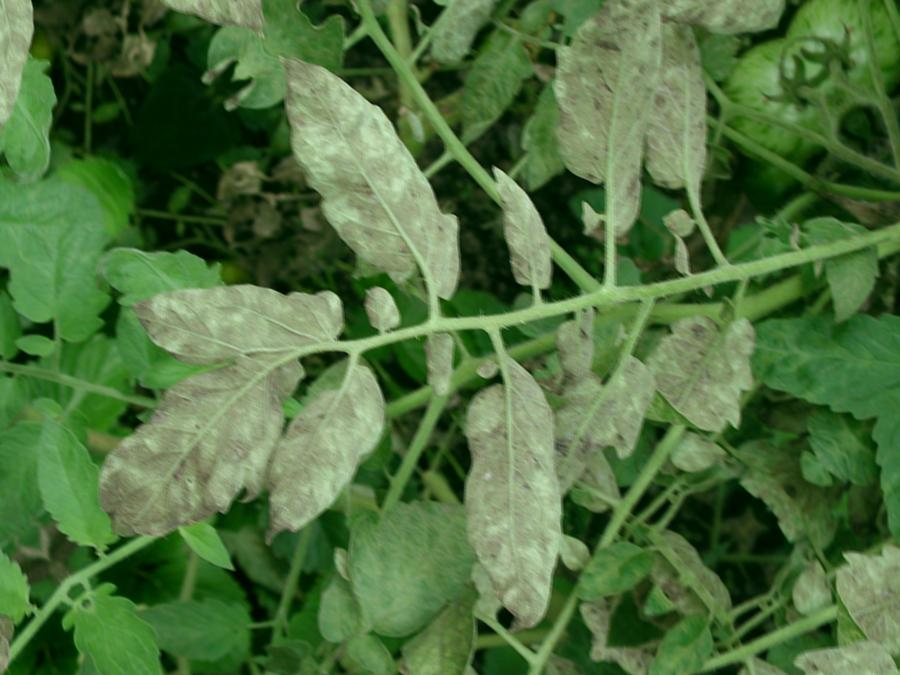Tomato mold leaf: (290, 462, 500, 665), (739, 247, 900, 454), (241, 645, 395, 675)
